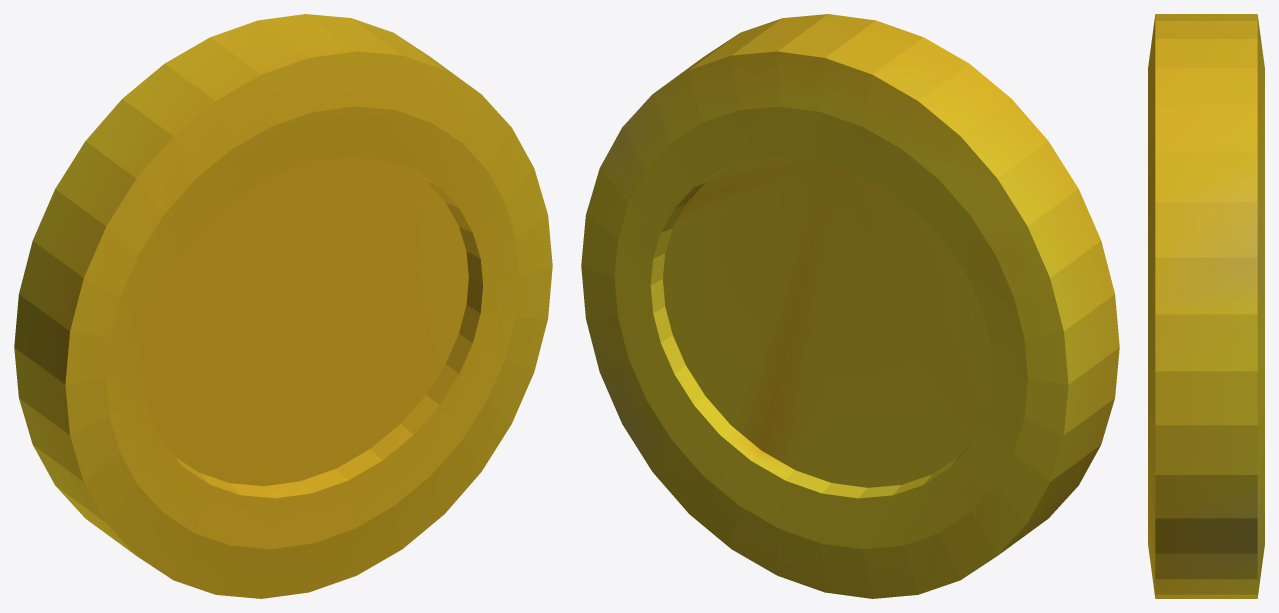
File: GreenCoin(+5).fbx
3 views of the same model, side by side, from view 1: azimuth 30°, elevation 25°; view 2: azimuth 150°, elevation 25°; view 3: azimuth 270°, elevation 25° (orthographic).
Parts seen in each view (by area): view 1: Cylinder; view 2: Cylinder; view 3: Cylinder.
Part boxes in pixels (box(x1,y1,x2,y2)): Cylinder: box(14, 14, 552, 598); Cylinder: box(581, 14, 1119, 598); Cylinder: box(1148, 14, 1264, 598).
Bounding box in the file's own units: 111 × 116 × 23.09.
